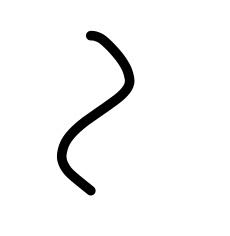a: (74, 24, 148, 140)
o: (48, 100, 108, 212)
